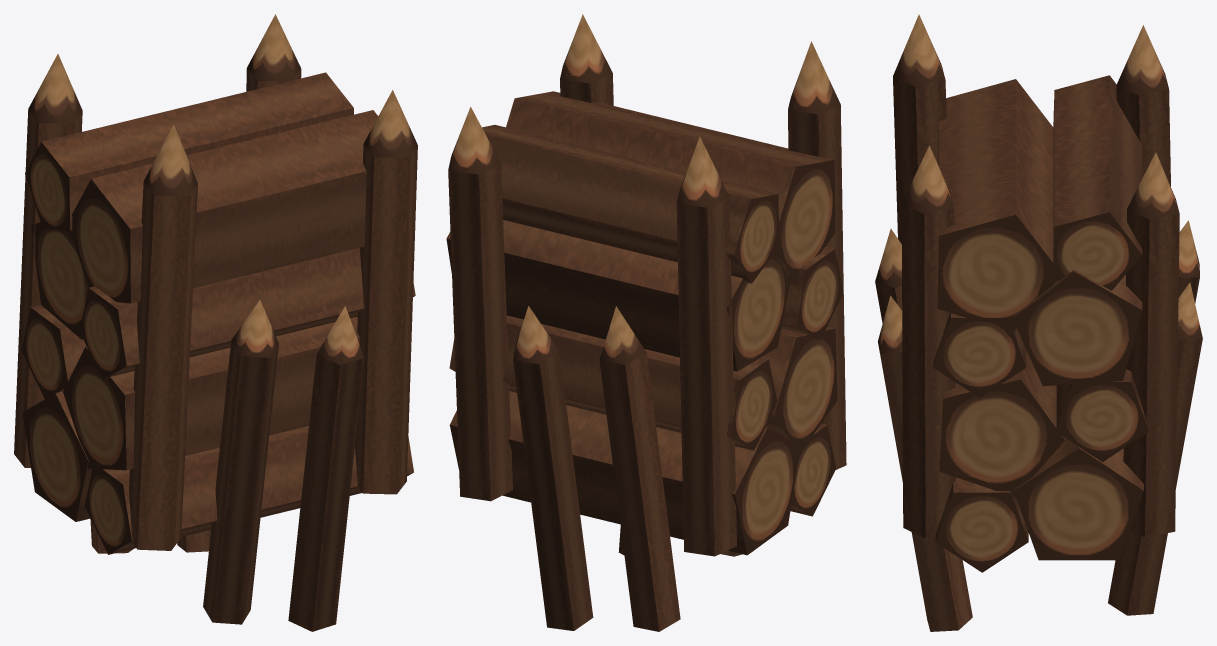
File: lvl2_1x1.fbx
The picture shows the model from 3 angles, left to right: view 1: azimuth 30°, elevation 25°; view 2: azimuth 150°, elevation 25°; view 3: azimuth 270°, elevation 25°; orthographic projection.
Parts seen in each view (by area): view 1: polySurface492; view 2: polySurface492; view 3: polySurface492.
Boxes of the visible parts, x1,y1,x2,y2 form: polySurface492: (14, 14, 417, 631); polySurface492: (446, 14, 846, 631); polySurface492: (875, 14, 1202, 631).
Bounding box in the file's own units: 9.25 × 16.39 × 9.06.
